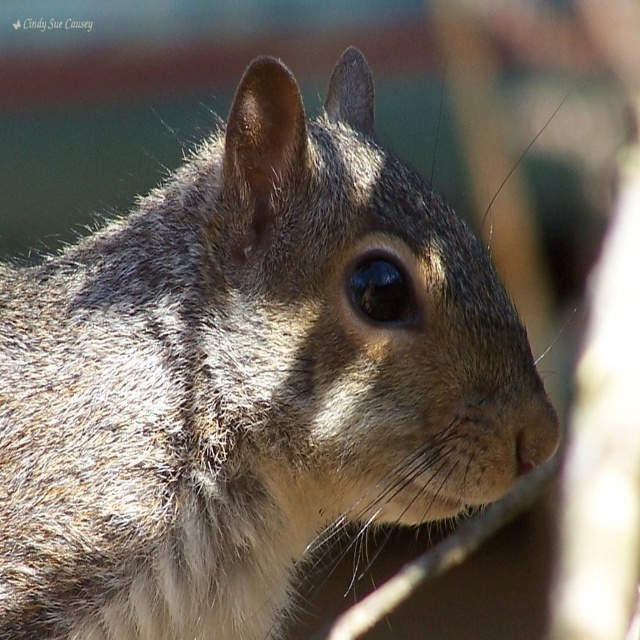Squirrel: (0, 34, 589, 640)
